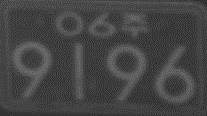0: (54, 9, 83, 37)
1: (61, 42, 98, 100)
6: (153, 45, 196, 105), (87, 11, 116, 38)
9: (104, 42, 147, 102), (12, 39, 53, 96)
주: (120, 11, 149, 38)
